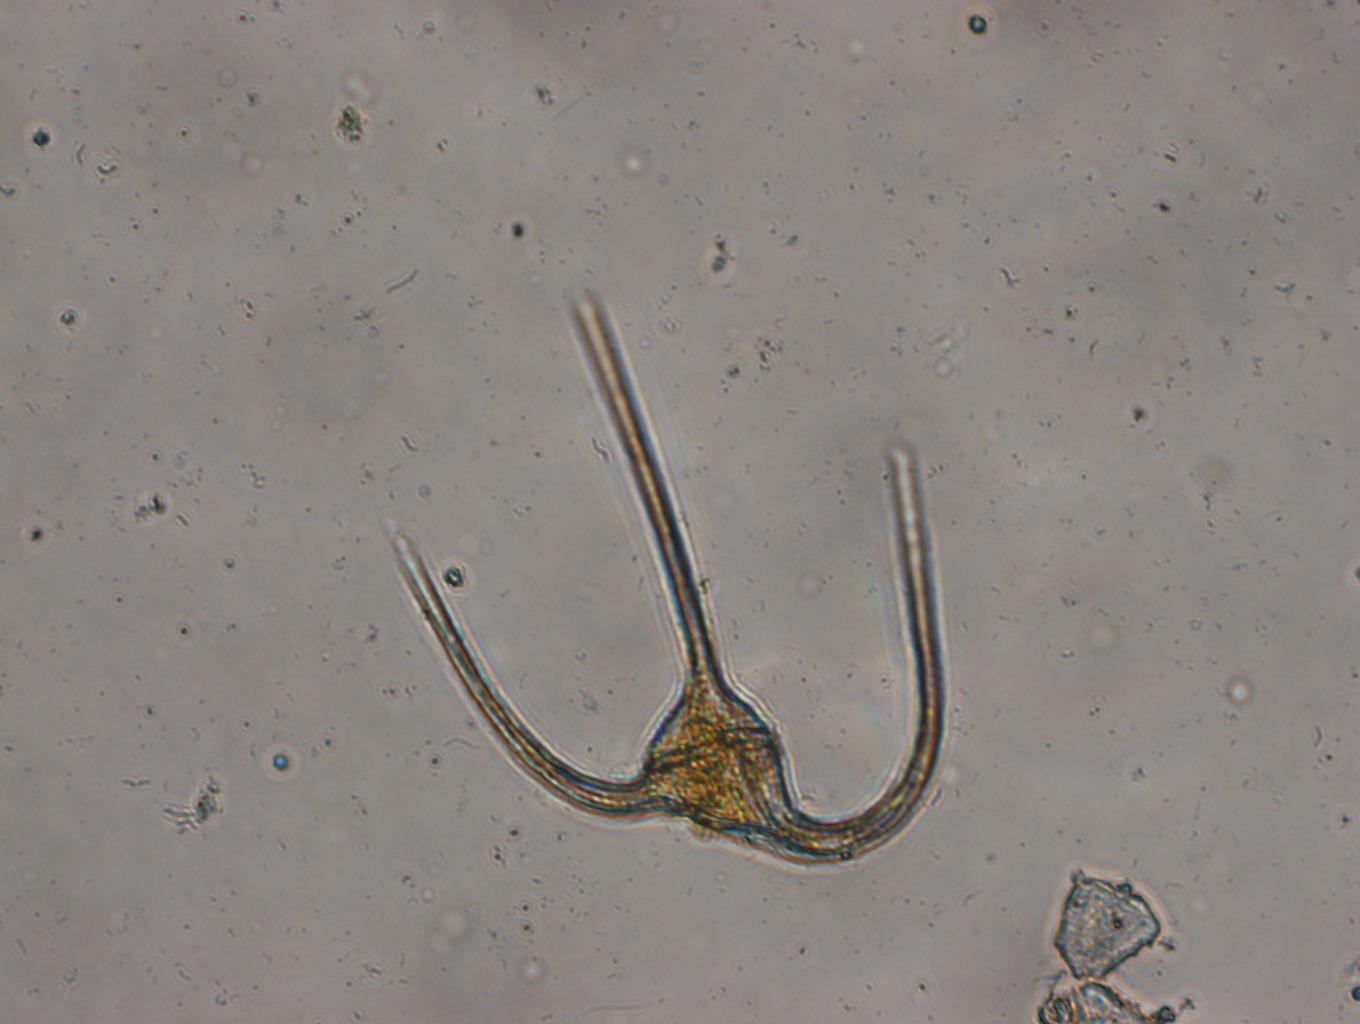ceratium trichoceros: (383, 275, 957, 874)
